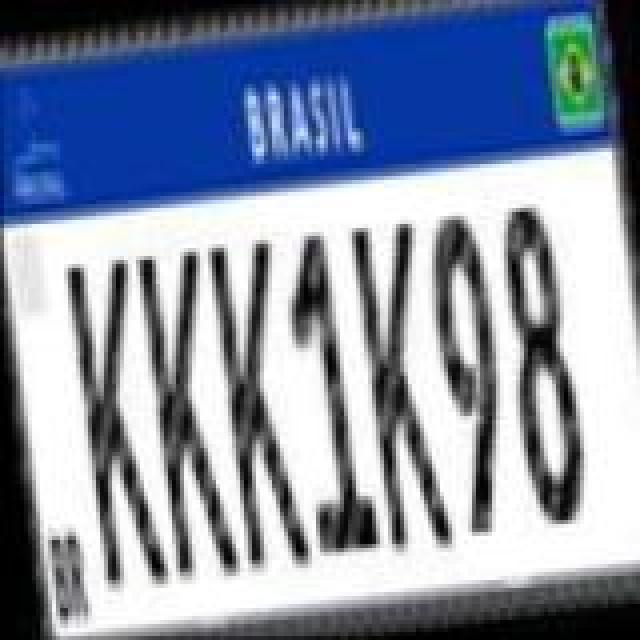1: (276, 220, 380, 560)
8: (488, 194, 592, 534)
9: (416, 208, 520, 544)
K: (66, 254, 170, 594), (138, 240, 242, 580), (204, 234, 308, 574), (348, 220, 452, 556)
